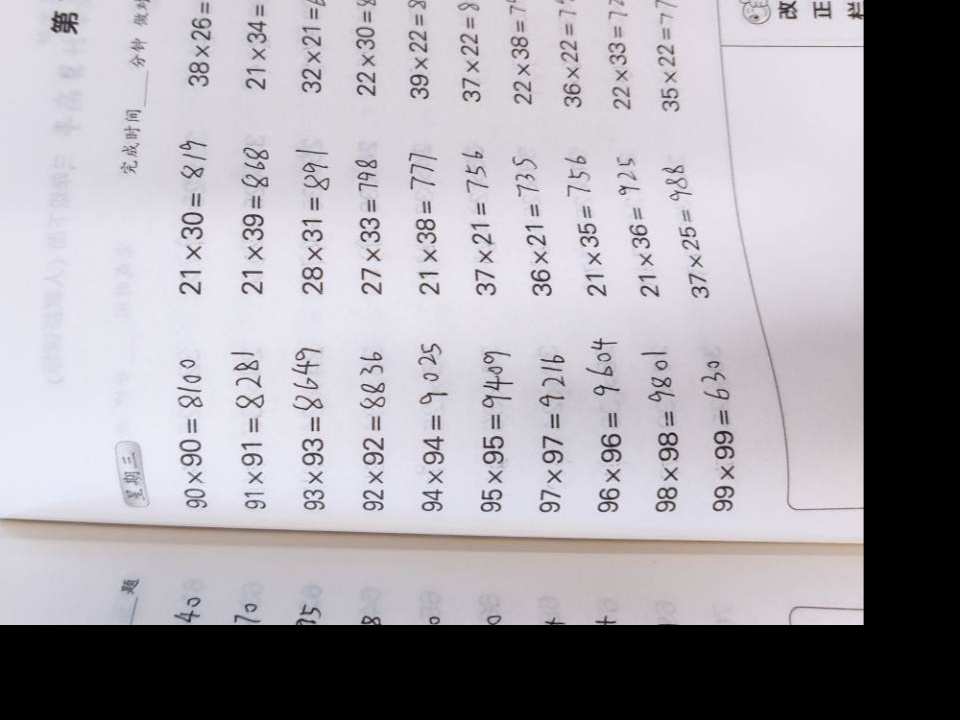equation: (661, 117, 720, 316), (612, 120, 665, 321), (562, 129, 613, 324), (290, 318, 332, 518), (472, 322, 514, 522), (412, 318, 454, 518), (356, 326, 398, 526), (511, 116, 553, 316), (462, 106, 504, 306), (406, 108, 448, 308), (697, 328, 739, 528), (640, 325, 682, 525), (585, 321, 627, 521), (167, 347, 214, 511), (290, 142, 337, 306), (229, 144, 276, 308), (168, 137, 215, 301), (345, 139, 392, 303), (529, 353, 576, 517), (229, 353, 276, 517), (649, 0, 696, 123), (594, 0, 641, 123), (342, 0, 389, 118), (547, 0, 594, 118), (500, 0, 547, 115), (449, 0, 496, 114), (399, 0, 446, 113), (233, 0, 280, 111), (292, 0, 339, 106), (182, 0, 229, 104)
